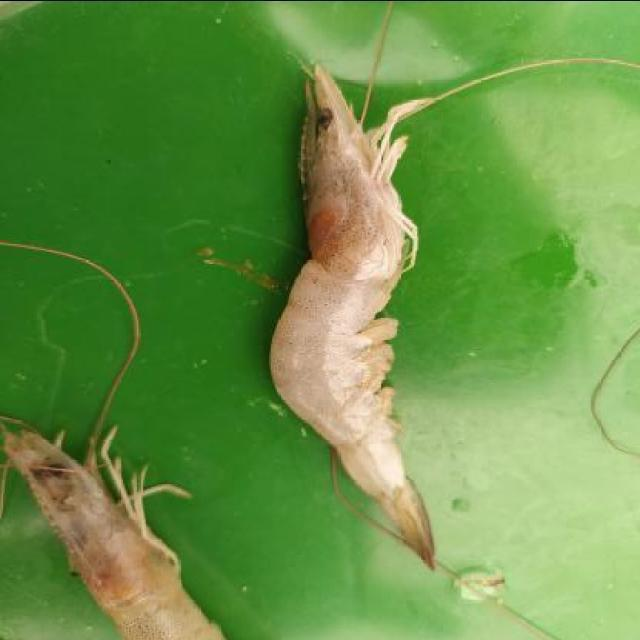shrimp: (275, 63, 434, 567), (8, 424, 196, 636)
